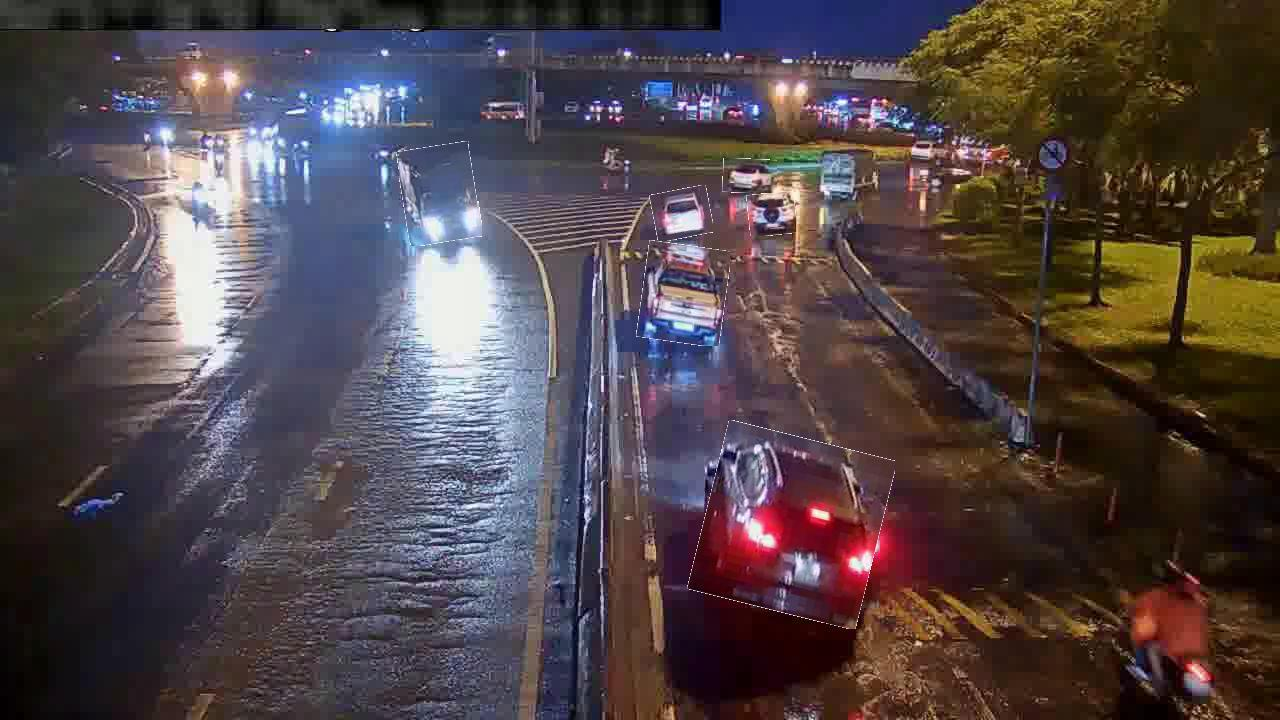8: (400, 144, 480, 244), (814, 147, 872, 199)
container: (696, 429, 887, 621), (639, 243, 728, 345), (651, 188, 712, 240), (747, 192, 796, 236), (723, 158, 778, 194)
